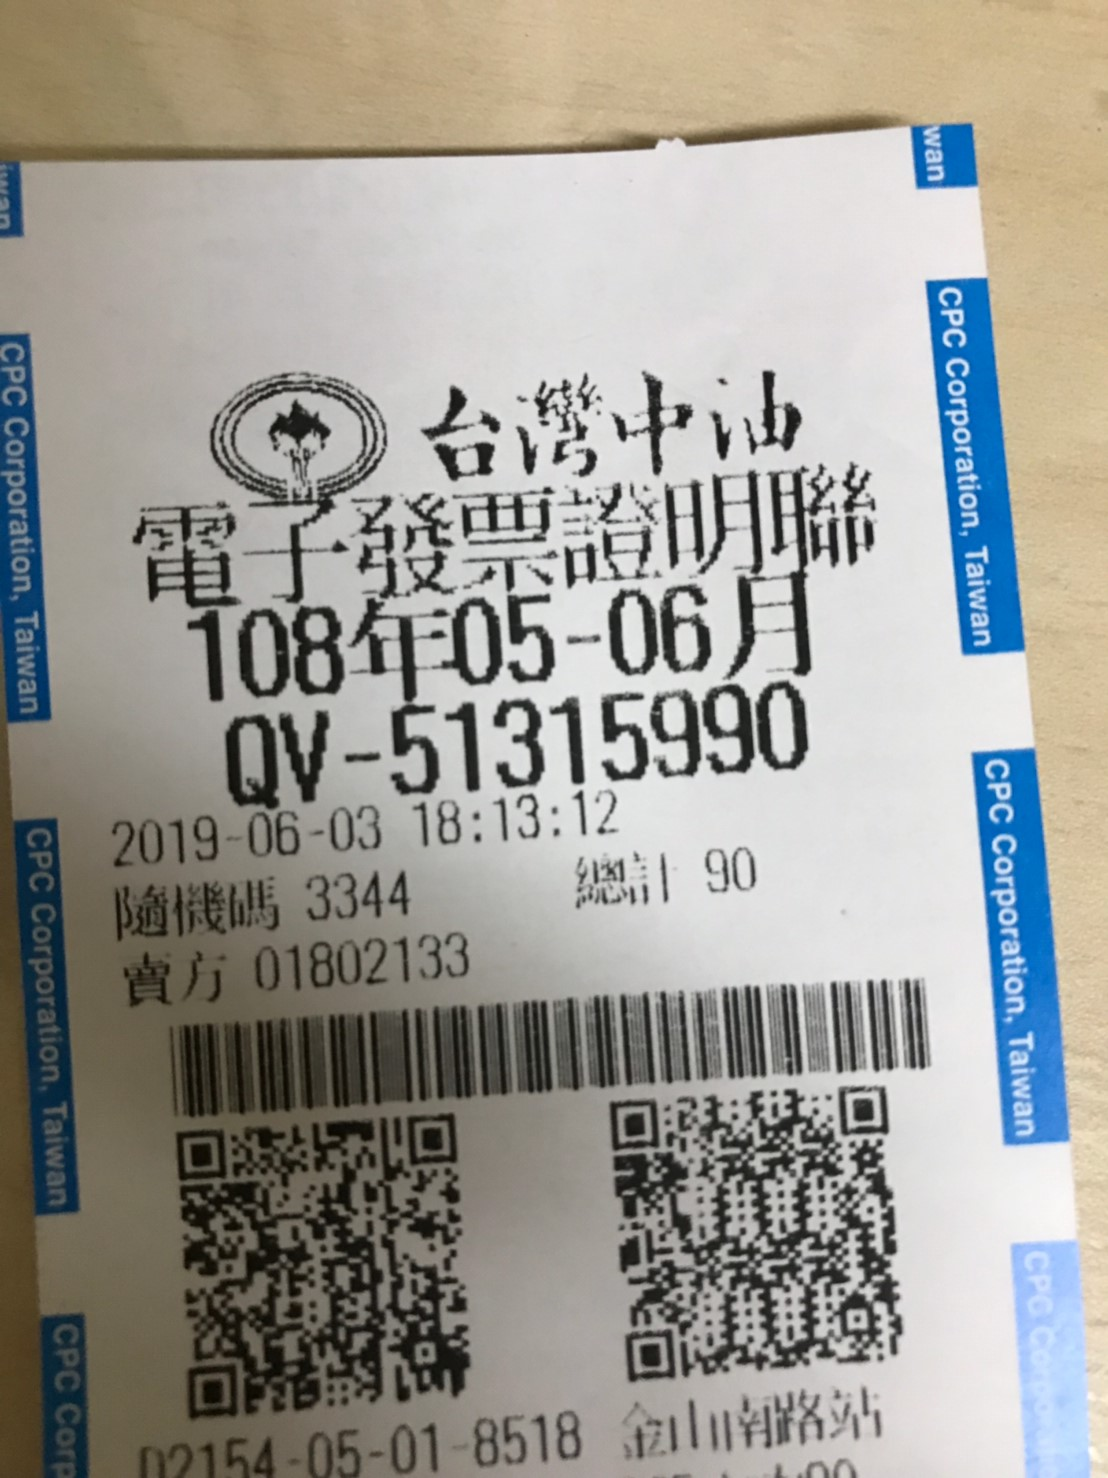Date_New: (184, 568, 823, 701)
Number_New: (382, 678, 812, 794)
